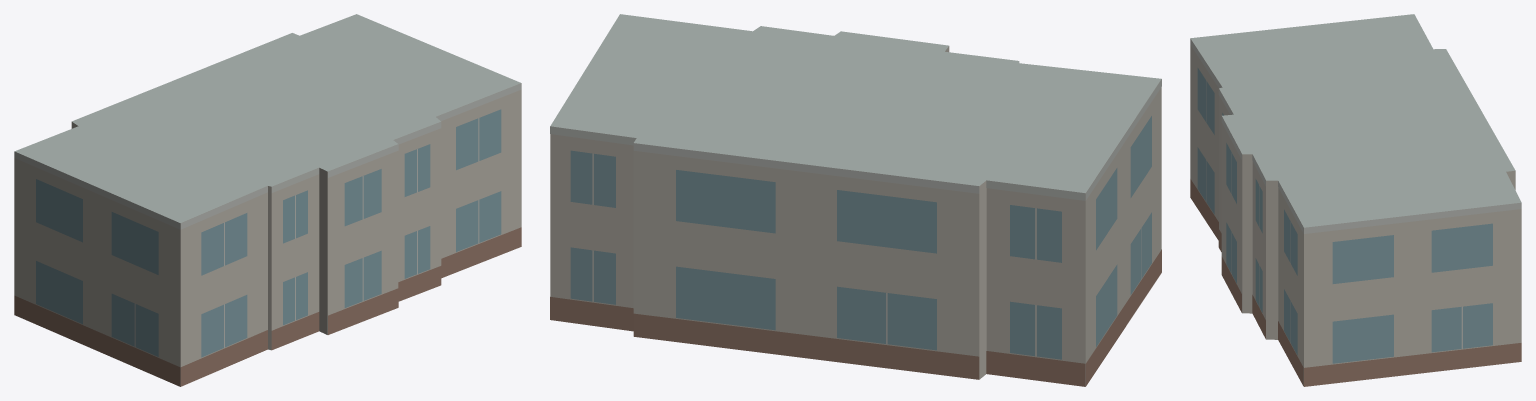
Rendered from survey-upis-32624094.glb.
3 views of the same model, side by side, from view 1: azimuth 30°, elevation 25°; view 2: azimuth 150°, elevation 25°; view 3: azimuth 270°, elevation 25° (orthographic). The views are drawn at different scales.
Visible parts, largest first — view 1: survey-upis-32624094.tmp; view 2: survey-upis-32624094.tmp; view 3: survey-upis-32624094.tmp.
Part boxes in pixels (box(x1,y1,x2,y2)): survey-upis-32624094.tmp: box(14, 14, 521, 386); survey-upis-32624094.tmp: box(550, 14, 1161, 386); survey-upis-32624094.tmp: box(1190, 14, 1521, 386).
Bounding box in the file's own units: 17.58 × 6.1 × 11.52.
